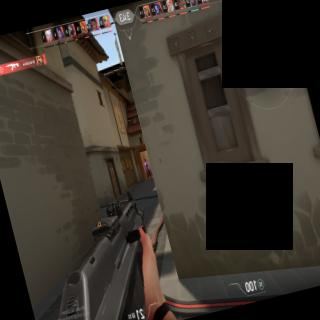ENEMY-BODY: (142, 156, 153, 182)
ENEMY-HEAD: (144, 158, 146, 162)
